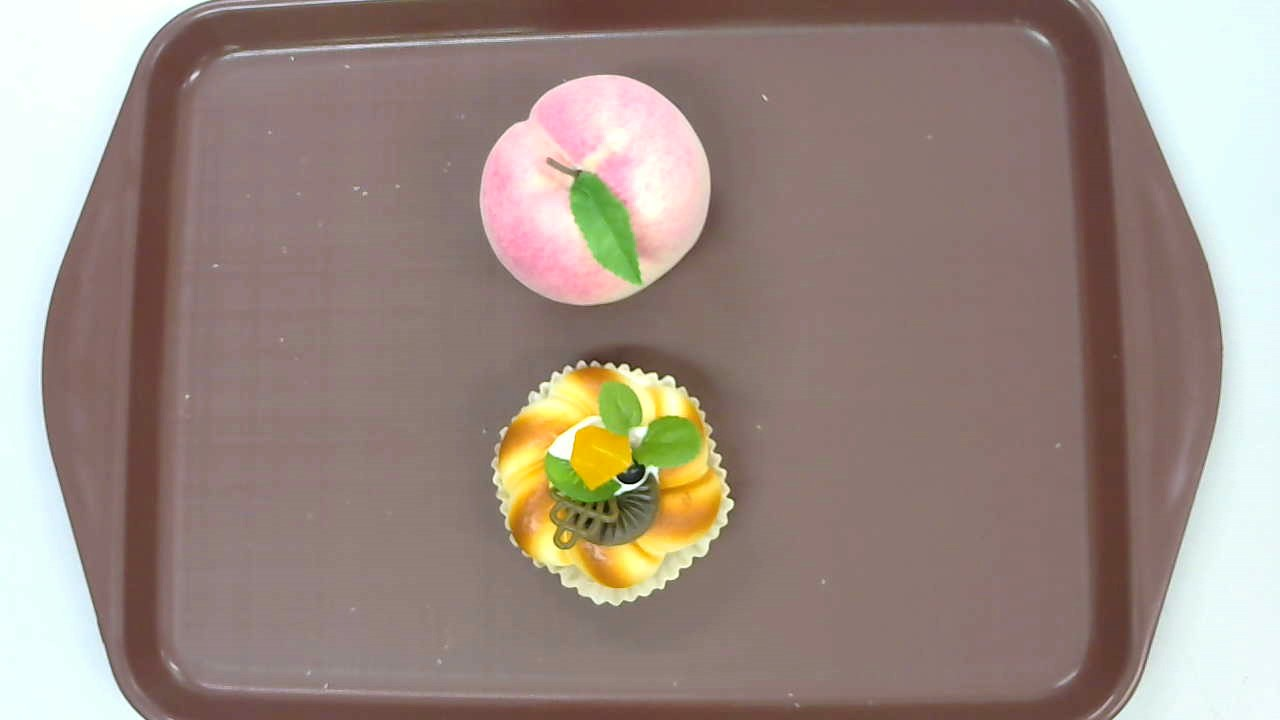fruit tart: (491, 359, 737, 608)
peach: (480, 74, 712, 307)
